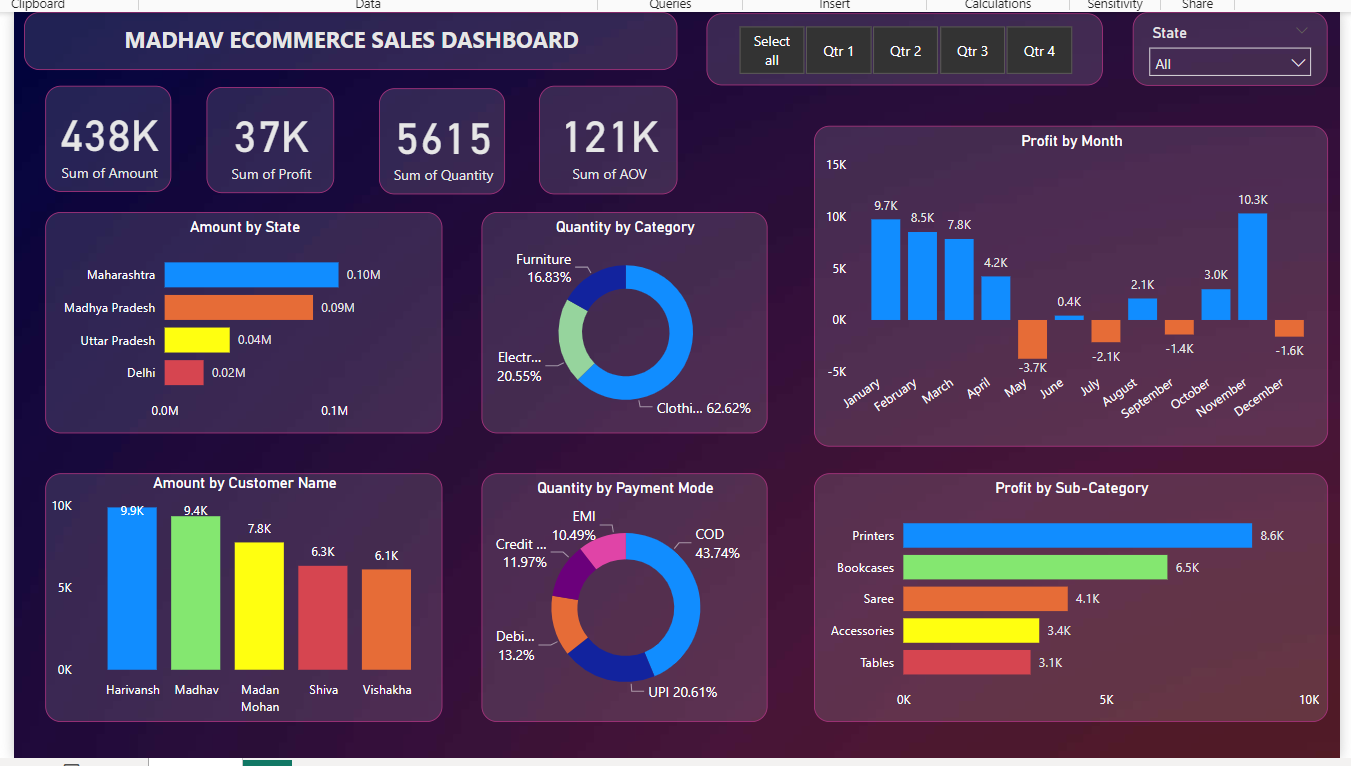

What the dashboard file says about the page in this screenshot:
{"tool":"powerbi","page":{"name":"Page 1","canvas":[1280,720],"ordinal":0},"visuals":[{"type":"textbox","box":[9.3,0,630.7,56],"z":0},{"type":"columnChart","title":"Profit by Month","fields":{"Category":["Orders.Order Date.Variation.Date Hierarchy.Month"],"Y":["Details.Profit"]},"box":[772,109.3,496,309.3],"z":1000},{"type":"barChart","title":"Profit by Sub-Category","fields":{"Category":["Details.Sub-Category"],"Y":["Details.Profit"]},"box":[772,445.3,496,240],"z":2000},{"type":"donutChart","title":"Quantity by Category","fields":{"Category":["Details.Category"],"Y":["Details.Quantity"]},"box":[450.7,193.3,276,213.3],"z":3000},{"type":"donutChart","title":"Quantity by Payment Mode","fields":{"Y":["Details.Quantity"],"Category":["Details.PaymentMode"]},"box":[451.1,445,276.2,240],"z":4000},{"type":"card","fields":{"Values":["Details.Amount"]},"box":[30.2,71.2,121.8,102.5],"z":5000},{"type":"card","fields":{"Values":["Details.Profit"]},"box":[185.7,72.4,123,102.5],"z":6000},{"type":"card","fields":{"Values":["Details.Quantity"]},"box":[352.2,73.6,121.8,102.5],"z":7000},{"type":"card","fields":{"Values":["Details.AOV"]},"box":[506.5,71.2,133.9,104.9],"z":8000},{"type":"barChart","title":"Amount by State","fields":{"Category":["Orders.State"],"Y":["Details.Amount"]},"box":[30.2,193,383.5,213.5],"z":9000},{"type":"columnChart","title":"Amount by Customer Name","fields":{"Category":["Orders.CustomerName"],"Y":["Details.Amount"]},"box":[30.2,445,383.5,240],"z":10000},{"type":"slicer","fields":{"Values":["Orders.Order Date.Variation.Date Hierarchy.Quarter"]},"box":[668.1,1.2,382.3,69.9],"z":11000},{"type":"slicer","fields":{"Values":["Orders.State"]},"box":[1079.4,0,188.1,71.2],"z":12000}]}

Visuals, with their boxes on the page's 1280x720 design canvas (x1, y1, x2, y2). These are canvas units, not pixel positions in the 1351x766 screenshot, which may show the page scaled, cropped or inside an application window:
textbox: (9, 0, 640, 56)
"Profit by Month" columnChart: (772, 109, 1268, 419)
"Profit by Sub-Category" barChart: (772, 445, 1268, 685)
"Quantity by Category" donutChart: (451, 193, 727, 407)
"Quantity by Payment Mode" donutChart: (451, 445, 727, 685)
card - Details.Amount: (30, 71, 152, 174)
card - Details.Profit: (186, 72, 309, 175)
card - Details.Quantity: (352, 74, 474, 176)
card - Details.AOV: (506, 71, 640, 176)
"Amount by State" barChart: (30, 193, 414, 406)
"Amount by Customer Name" columnChart: (30, 445, 414, 685)
slicer - Orders.Order Date.Variation.Date Hierarchy.Quarter: (668, 1, 1050, 71)
slicer - Orders.State: (1079, 0, 1268, 71)
